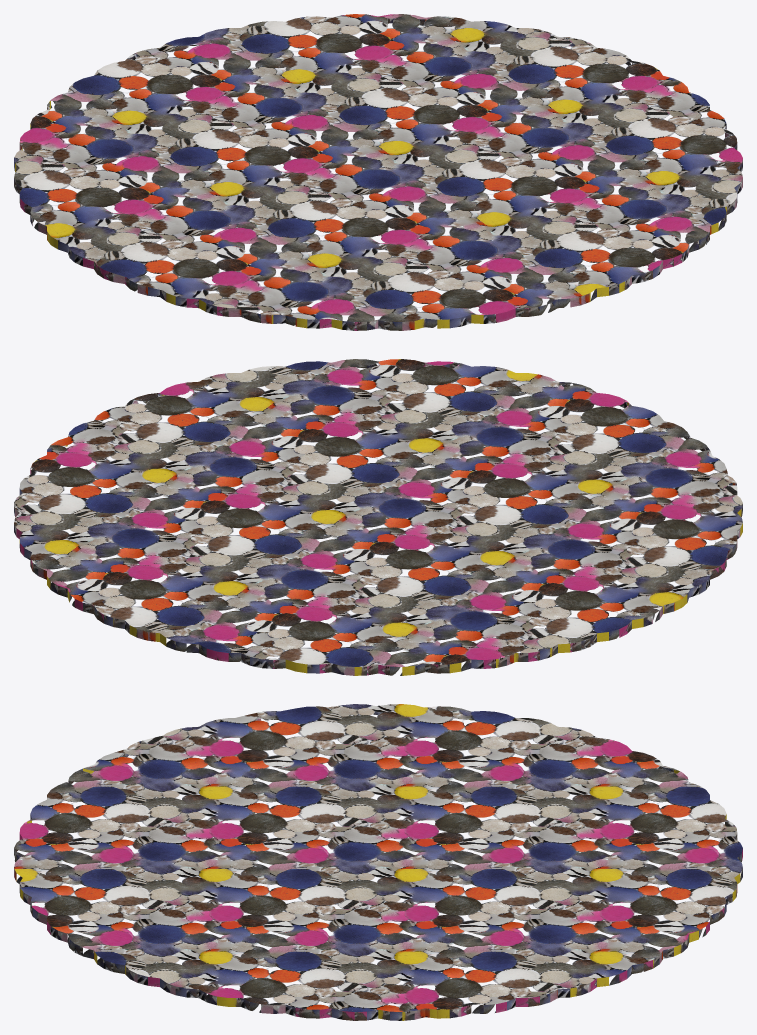
Rendered from Unbenannt.fbx.
The picture shows the model from 3 angles, top to bottom: view 1: azimuth 30°, elevation 25°; view 2: azimuth 150°, elevation 25°; view 3: azimuth 270°, elevation 25°; orthographic projection.
Visible parts, largest first — view 1: Group1; view 2: Group1; view 3: Group1.
Boxes of the visible parts, x1,y1,x2,y2 form: Group1: [14, 14, 742, 330]; Group1: [14, 359, 742, 675]; Group1: [14, 704, 742, 1020].
Bounding box in the file's own units: 149 × 2 × 149.
